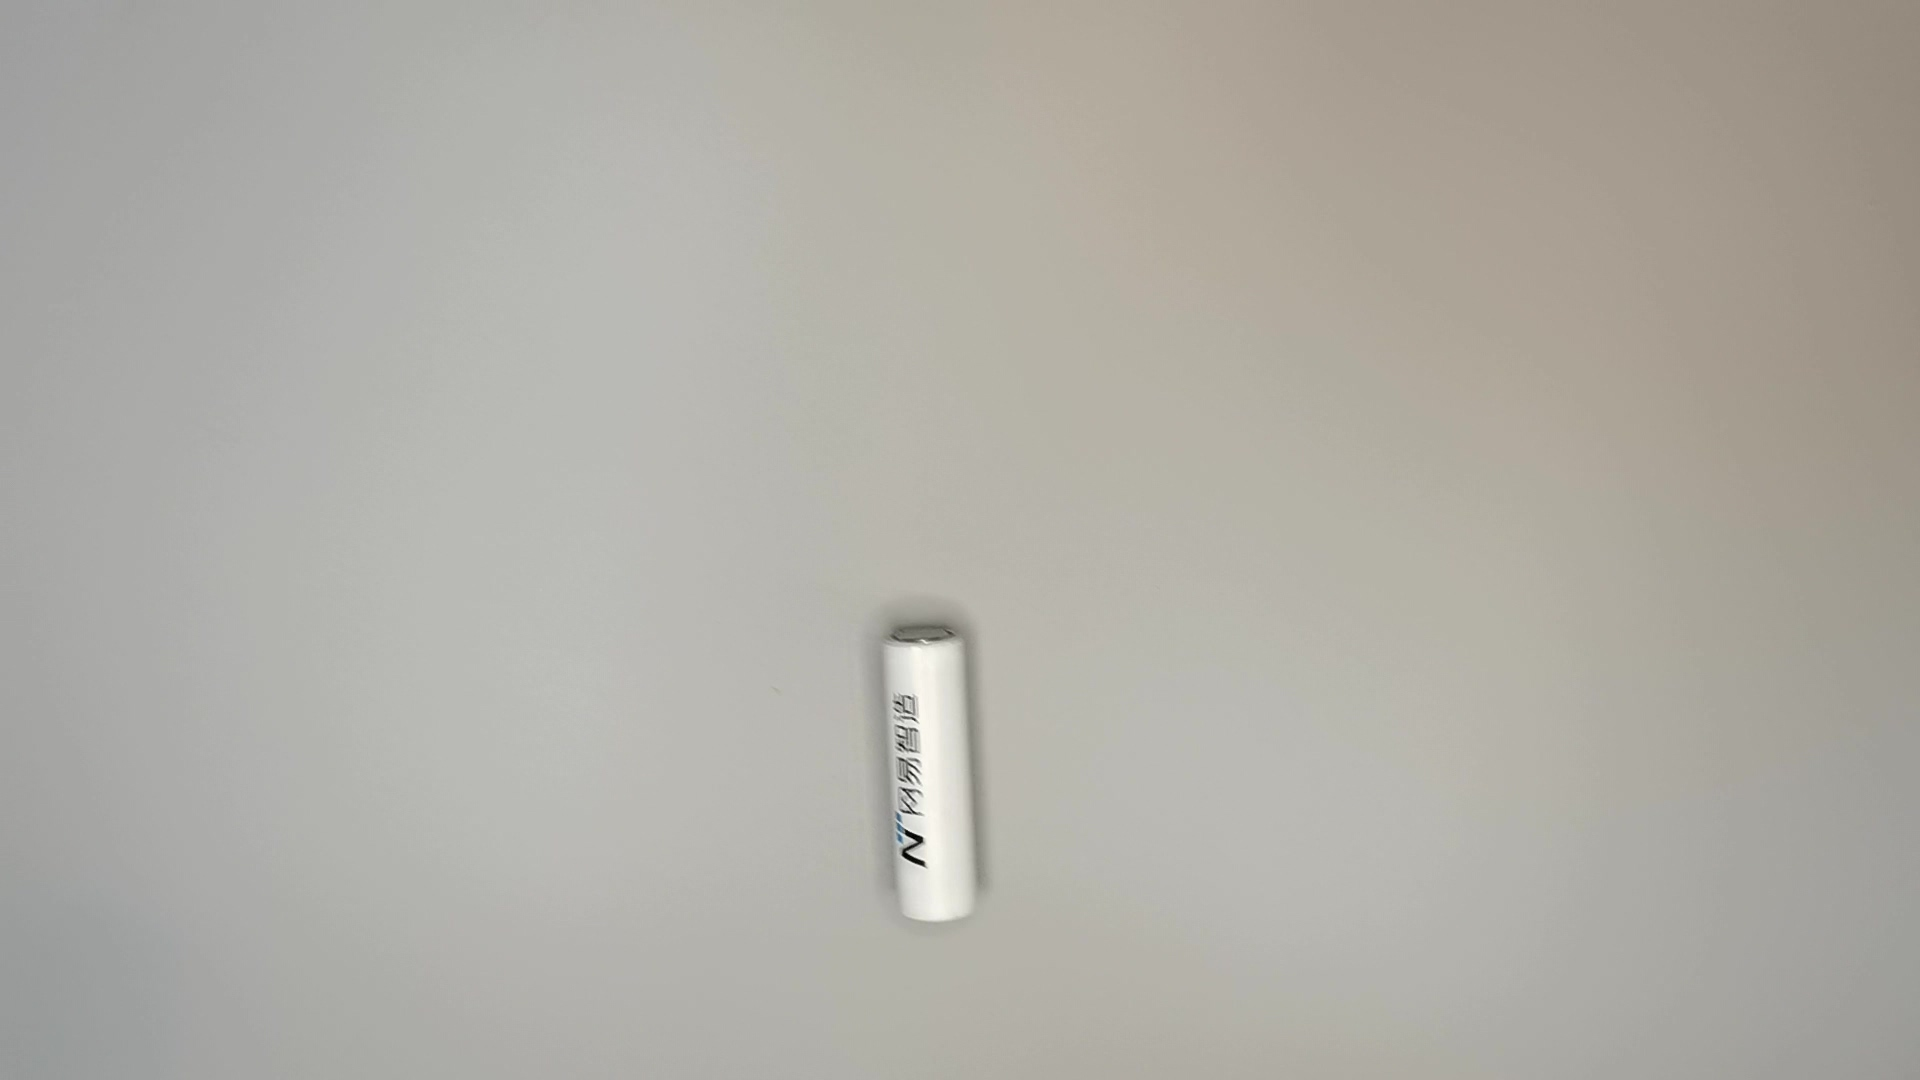battery: (872, 615, 996, 931)
